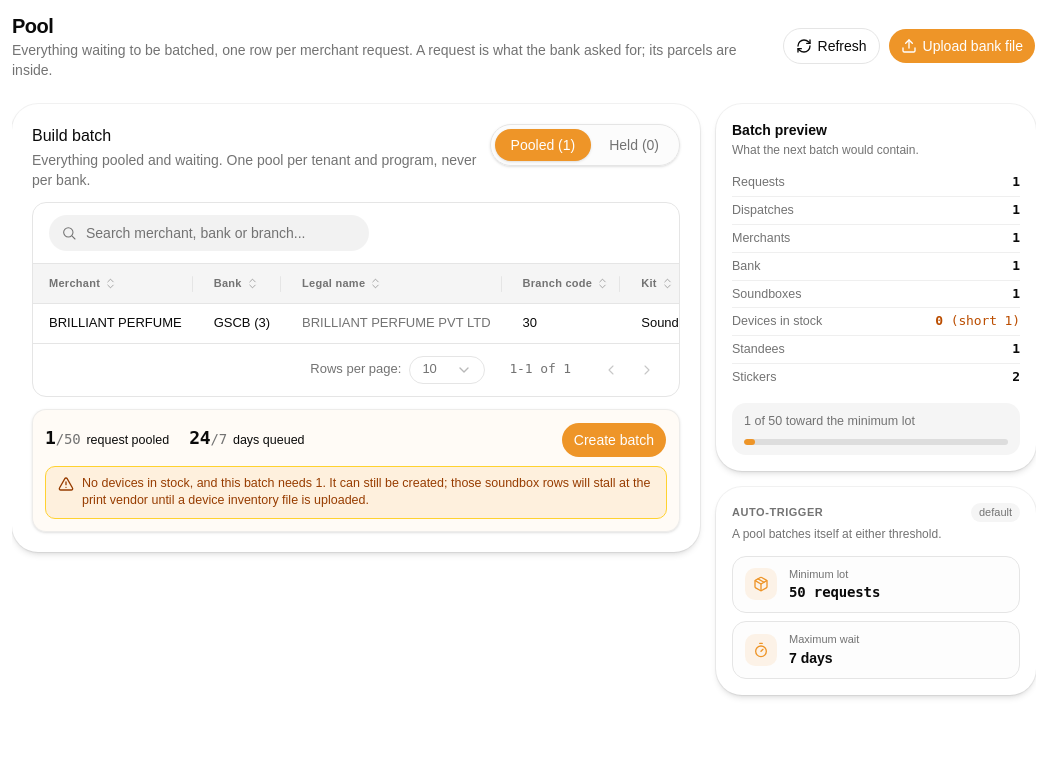
Test case: PoolPage › says nothing is on hold rather than rendering a bare table
The image size is (1048, 780).
Click the button "Held (0)": (634, 145) [593, 129, 675, 161]
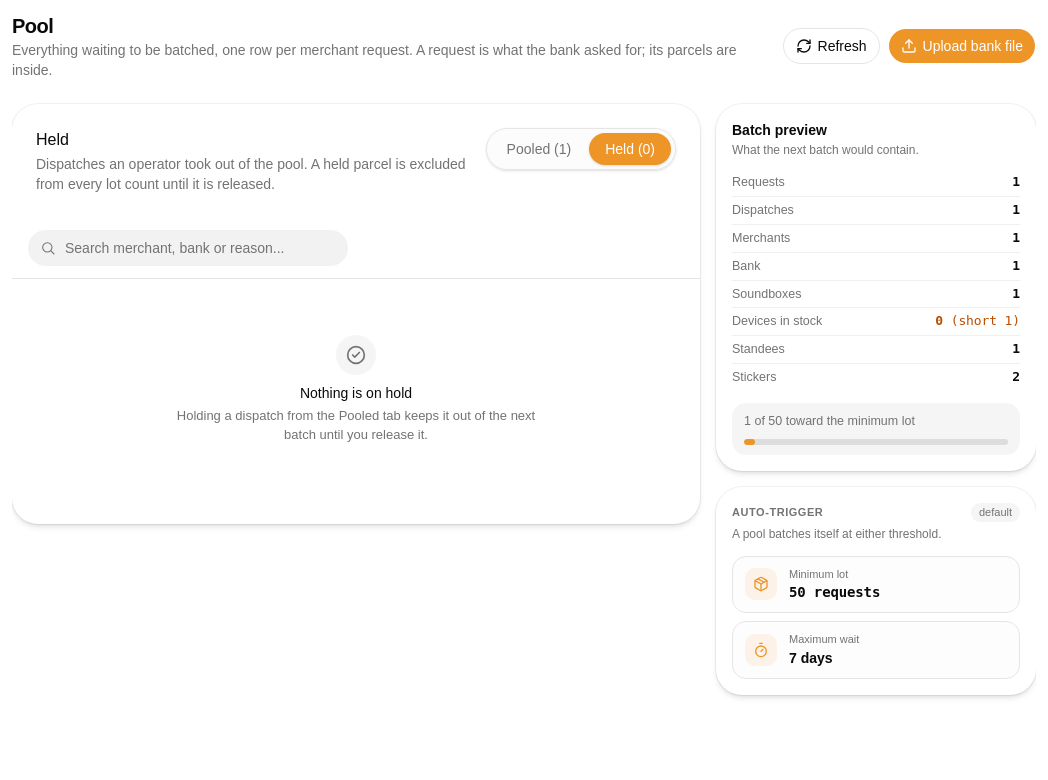
Check: the text "Nothing is on hold" is shown, box [300, 383, 412, 403]
